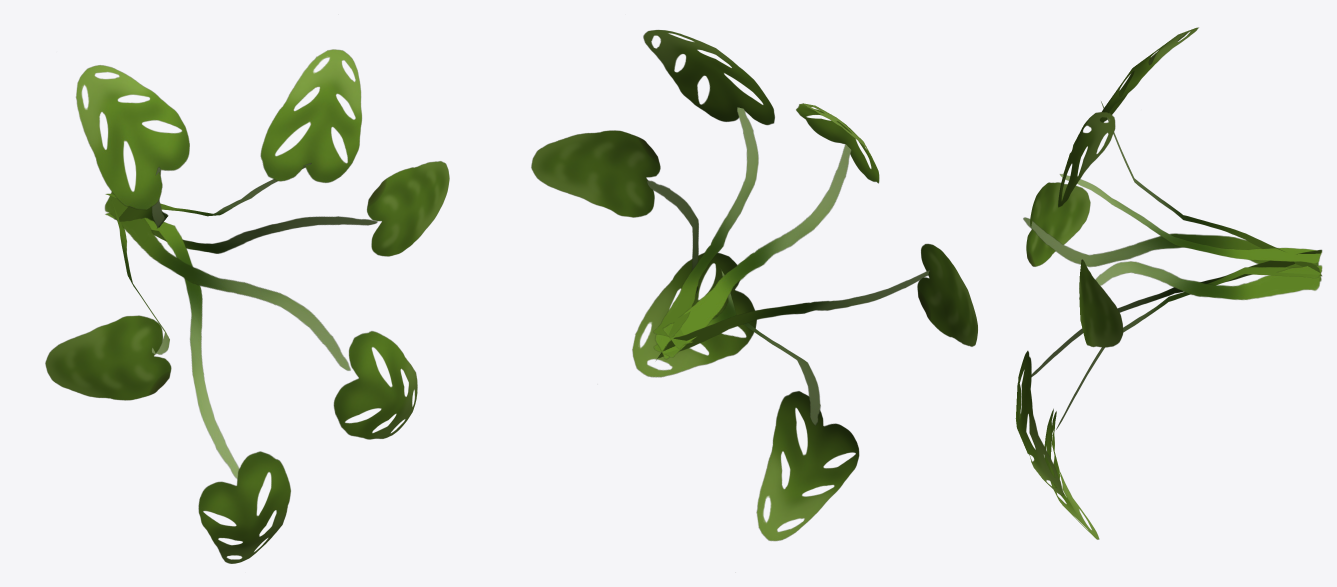
File: plant2.glb
The picture shows the model from 3 angles, left to right: view 1: azimuth 30°, elevation 25°; view 2: azimuth 150°, elevation 25°; view 3: azimuth 270°, elevation 25°; orthographic projection. The views are drawn at different scales.
Visible parts, largest first — view 1: group1_pCube50; view 2: group1_pCube50; view 3: group1_pCube50.
Part boxes in pixels (x1,y1,x2,y2): group1_pCube50: (45,49,449,563); group1_pCube50: (531,30,977,541); group1_pCube50: (1015,27,1322,539).
Size of the model in its own units: 0.1938 by 0.2097 by 0.1145.
1 material, 1 textured.
